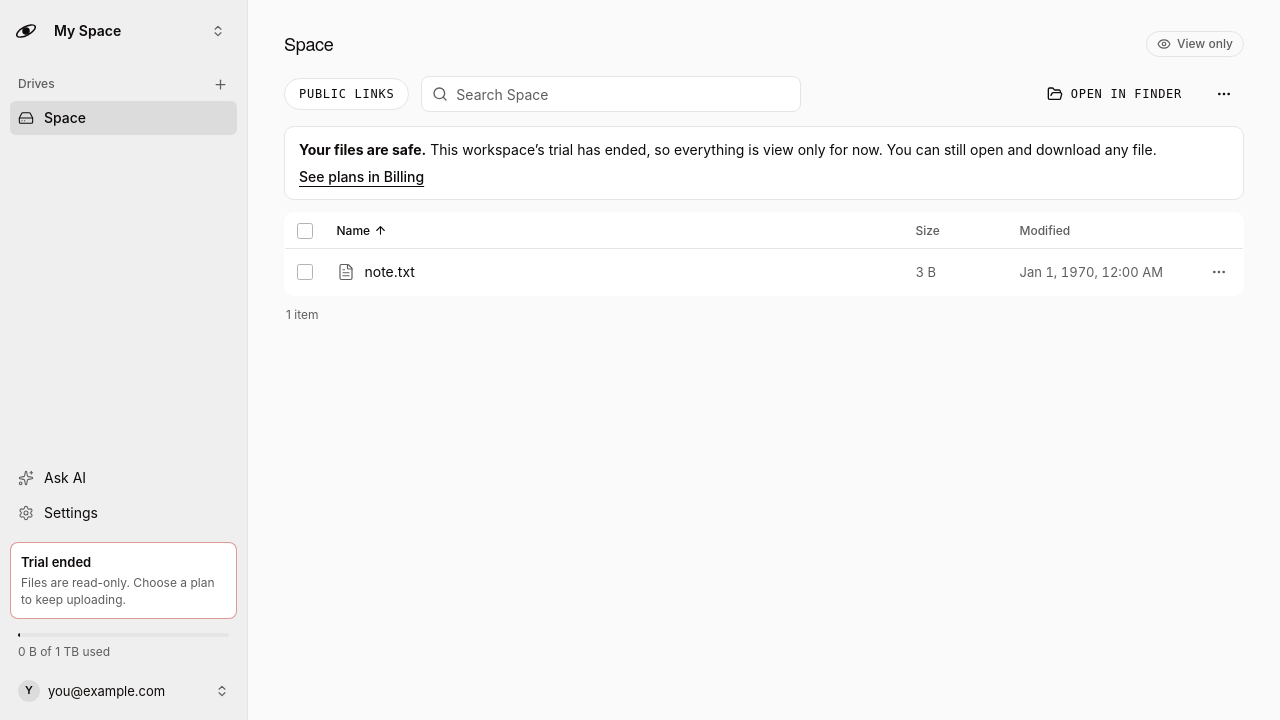
makes a trial-expired workspace view only, reassures first and links to billing
Check: the link "note.txt" is shown, box [336,263,415,281]
Check: the element that starts with "Your files are safe." shows "Your files are safe. This workspace’s trial has ended", box [284,126,1244,200]
Click the button named "Actions for note.txt" at (1219, 272), box [1203,256,1235,288]
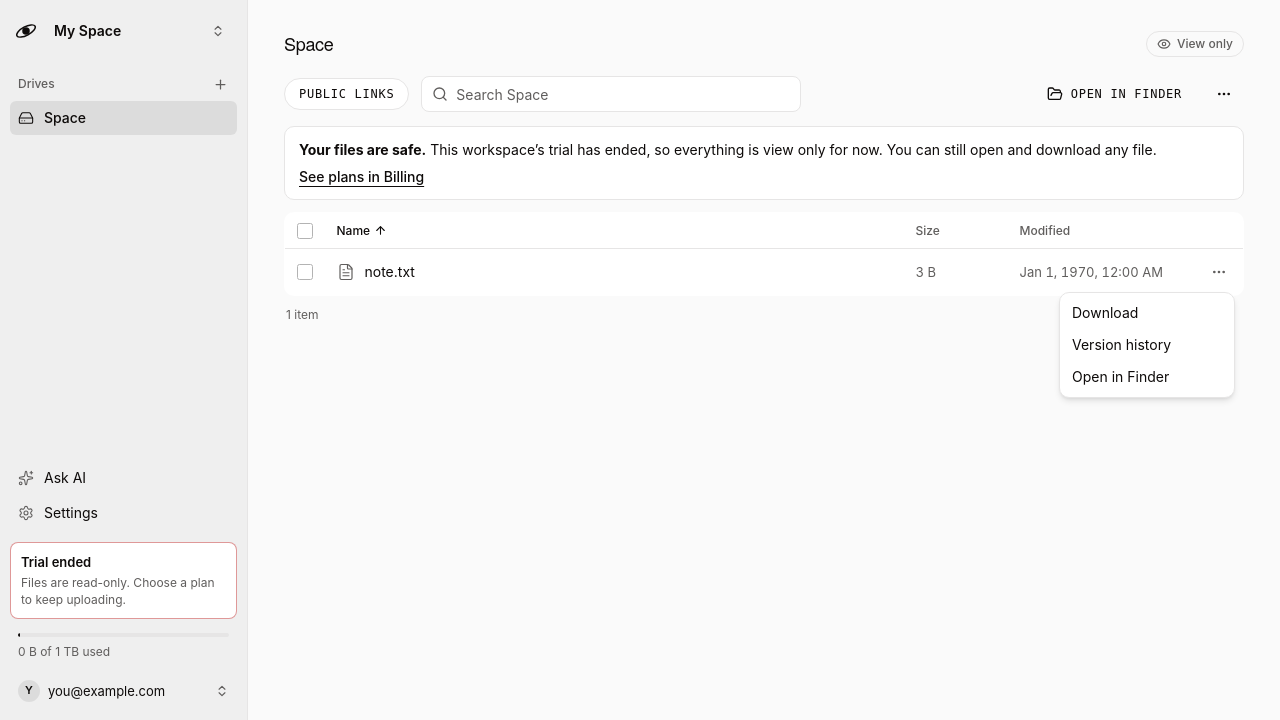
Check: the menu item "Download" is shown, box [1072,304,1138,321]
